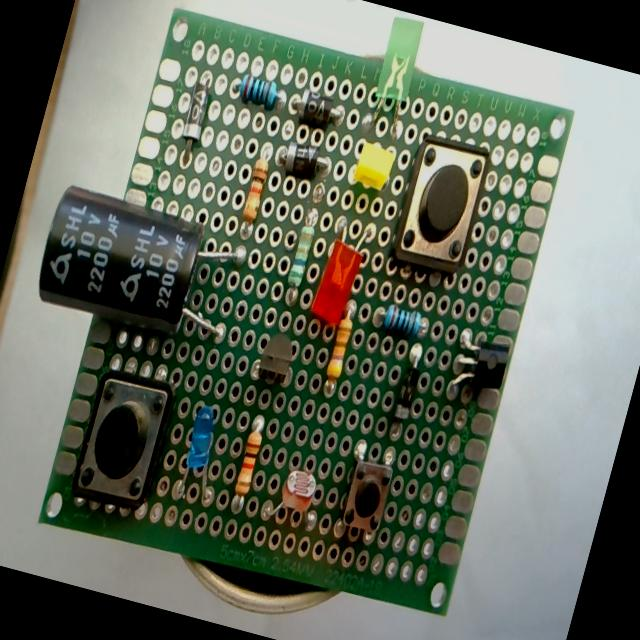Electrolytic capacitor: (33, 182, 254, 350)
cds: (262, 462, 324, 528)
diode: (276, 88, 348, 184), (175, 73, 215, 160), (275, 138, 333, 186), (392, 346, 426, 422), (292, 87, 348, 132)
led: (362, 15, 428, 140), (307, 216, 373, 328), (171, 401, 236, 507), (350, 137, 398, 193)
resistor: (286, 188, 325, 284), (236, 147, 274, 236), (233, 419, 267, 497), (324, 304, 358, 380), (236, 71, 288, 113), (381, 302, 426, 341)
switch: (68, 367, 178, 516), (388, 130, 493, 276), (332, 438, 402, 542)
transistor: (445, 331, 513, 401), (250, 330, 302, 390)
